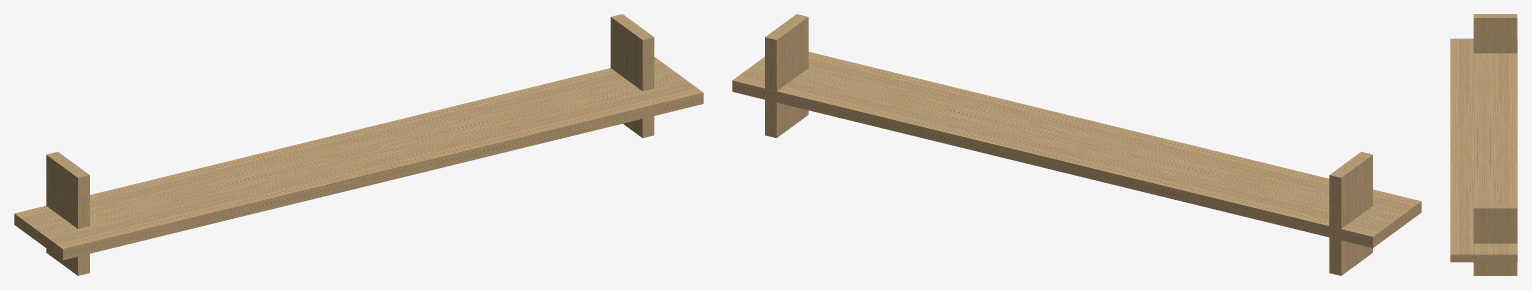
The model's file is Shelf.FBX.
The picture shows the model from 3 angles, left to right: view 1: azimuth 30°, elevation 25°; view 2: azimuth 150°, elevation 25°; view 3: azimuth 270°, elevation 25°; orthographic projection. The views are drawn at different scales.
Parts seen in each view (by area): view 1: shelf; view 2: shelf; view 3: shelf.
Part boxes in pixels (<box>): shelf: <box>14,14,703,275</box>; shelf: <box>732,14,1421,275</box>; shelf: <box>1450,14,1517,275</box>.
Size of the model in its own units: 193 by 28.2 by 25.35.
Materials: 1 (1 with a texture image).
